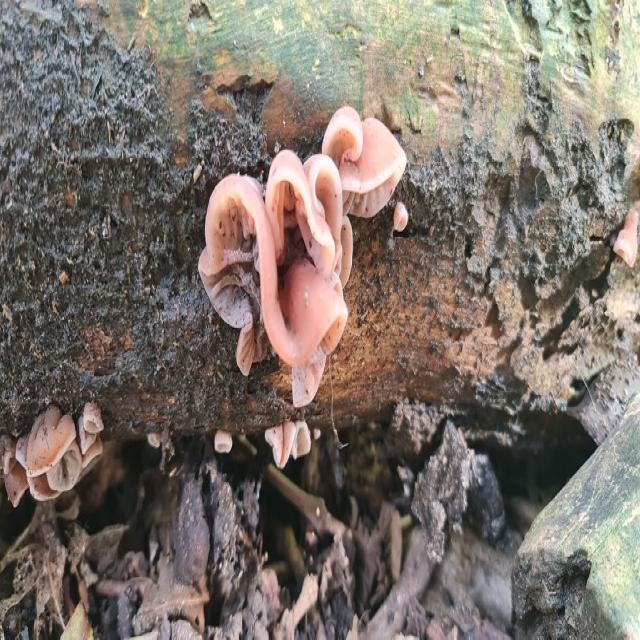Fase Muda: (200, 147, 352, 411), (322, 106, 406, 219), (16, 403, 83, 504), (264, 418, 312, 471), (1, 426, 28, 508)
primordia: (77, 397, 103, 455), (392, 200, 409, 233), (214, 427, 232, 457), (312, 426, 322, 442)
